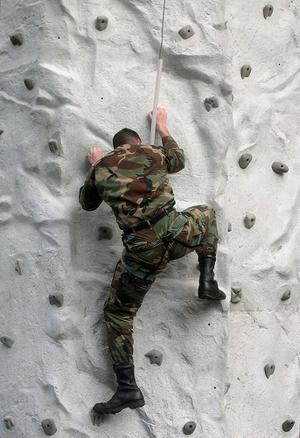person: (80, 106, 227, 415)
